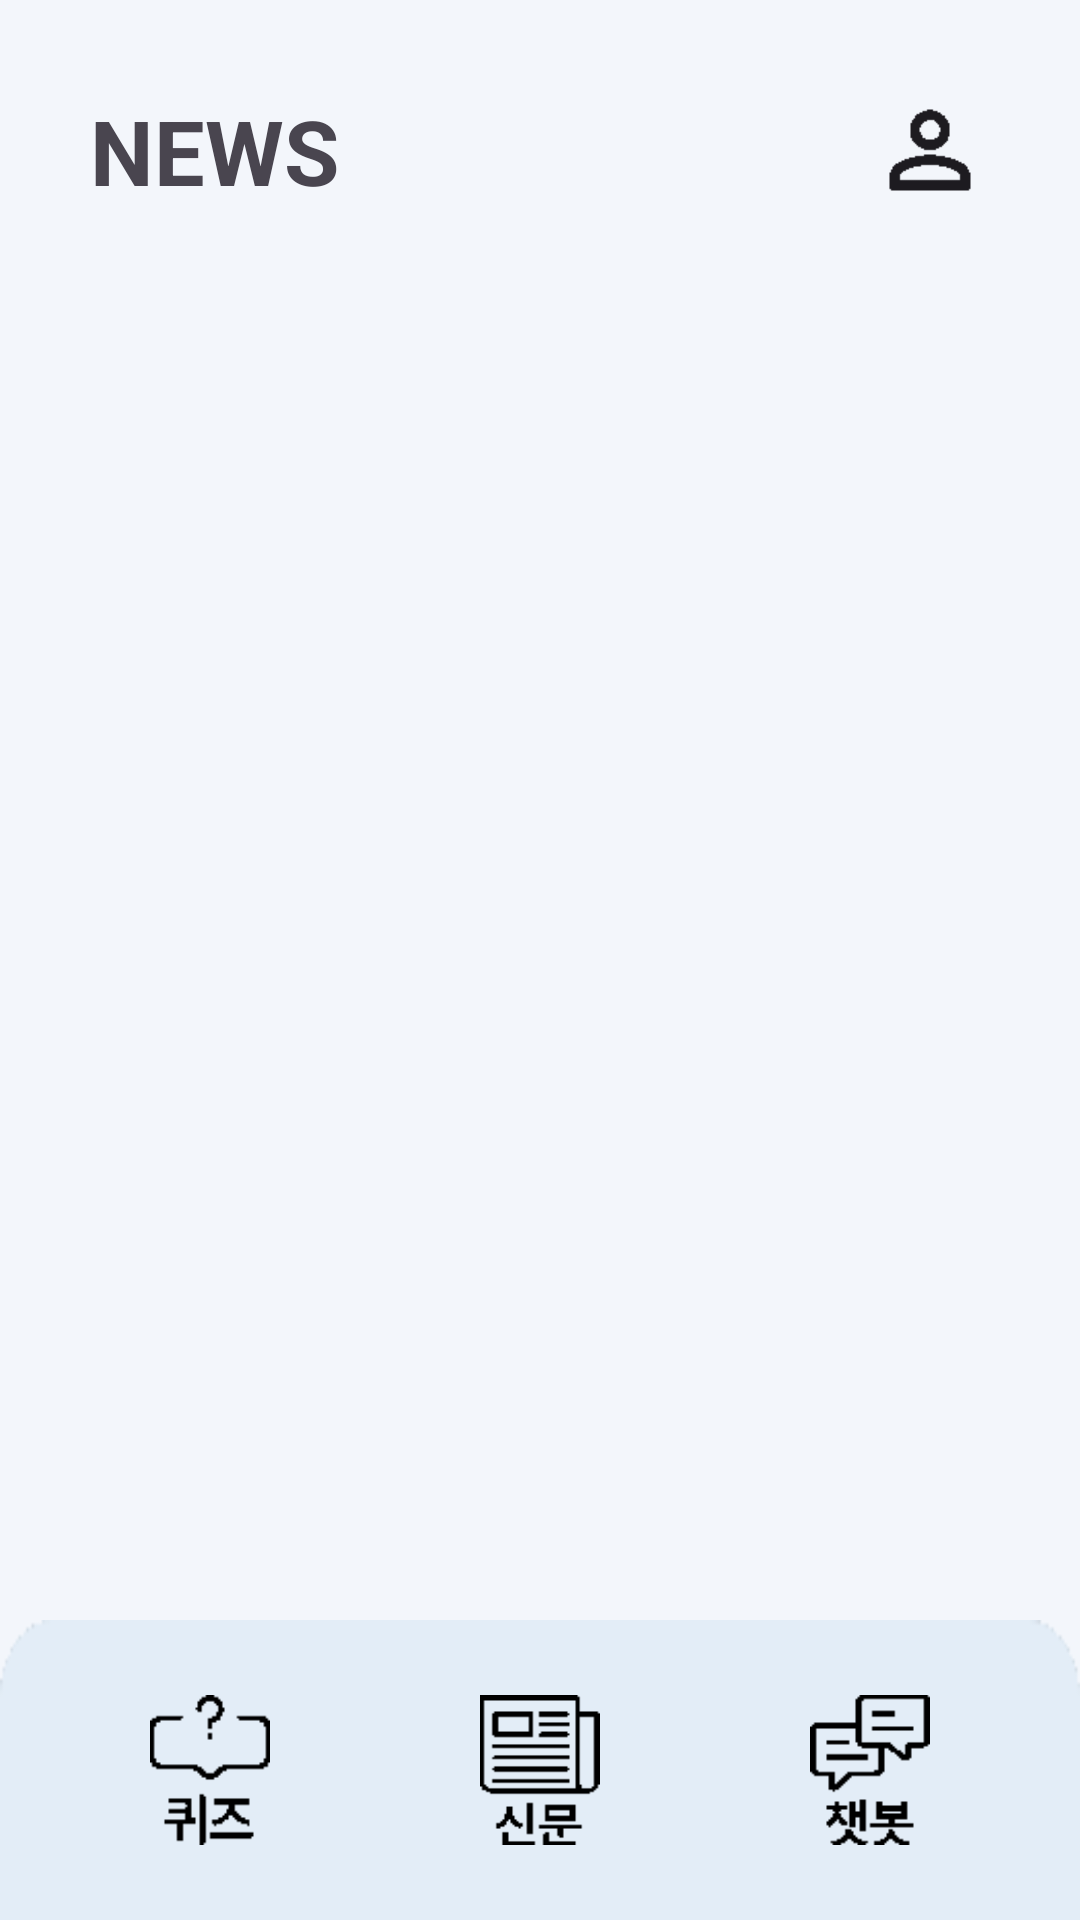

Icons on this 1080w x 1920h Android screen, each with the point to tap as point (x, y):
chat: point (870, 1770)
profile info: point (930, 150)
